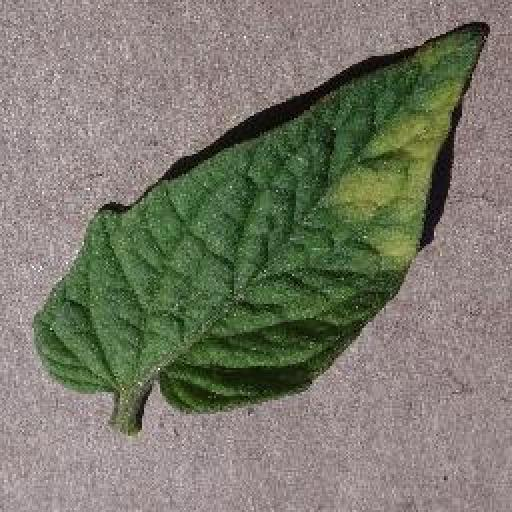disease_tomato: (32, 21, 490, 416)
